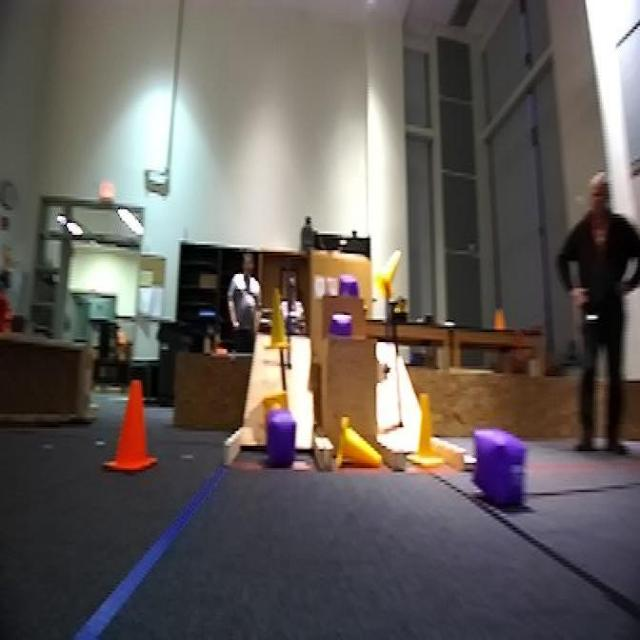frc_cone: (410, 395, 444, 475), (339, 421, 381, 472), (266, 291, 293, 354), (373, 250, 399, 301), (260, 397, 289, 415)
frc_cube: (477, 434, 527, 509), (265, 414, 297, 466), (330, 315, 352, 340), (340, 272, 356, 293)
